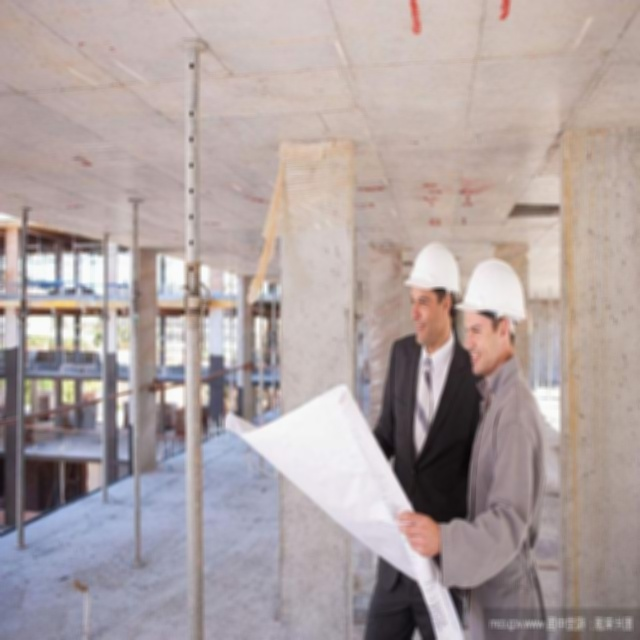Con_Casco: (455, 260, 526, 368), (404, 243, 460, 341)
